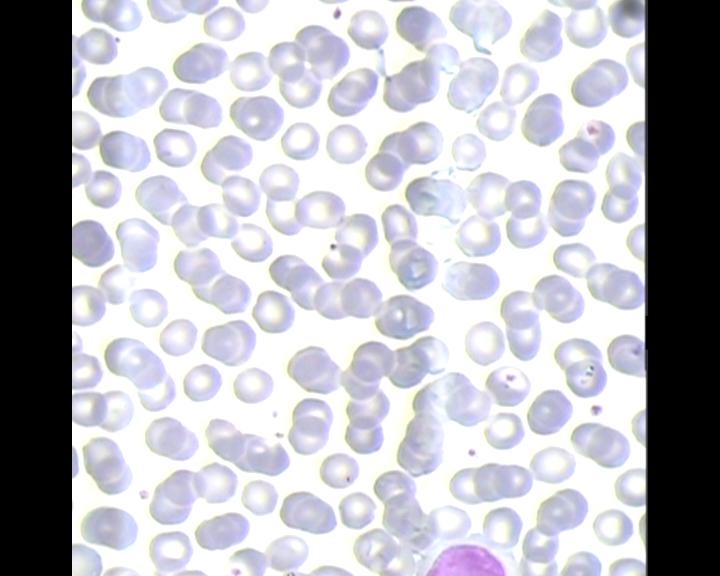mono: (416, 533, 527, 576)
